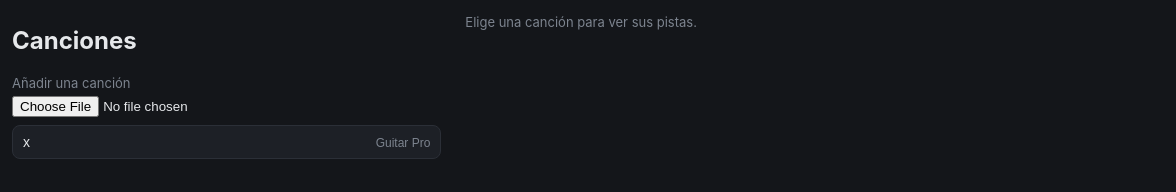
Canciones › avisa cuando la cancion pide otra afinacion y ofrece ir al afinador
Click the text "x" at (26, 142), box [23, 134, 30, 150]
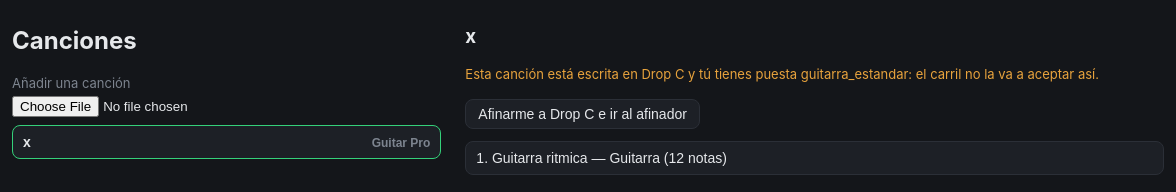
Expected: the text "escrita en Drop C" is shown, [465, 66, 1164, 82]
Expected: the button "Afinarme a Drop C e ir al afinador" is shown, [465, 99, 700, 129]
